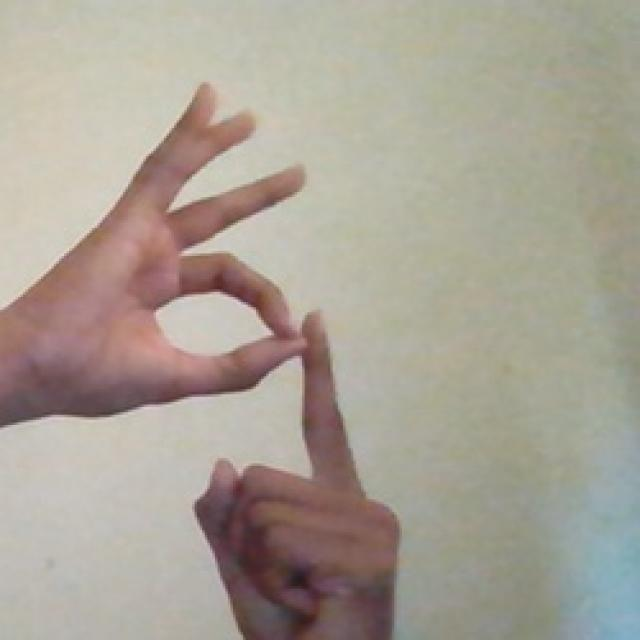Alphabet-P: (41, 77, 438, 640)
